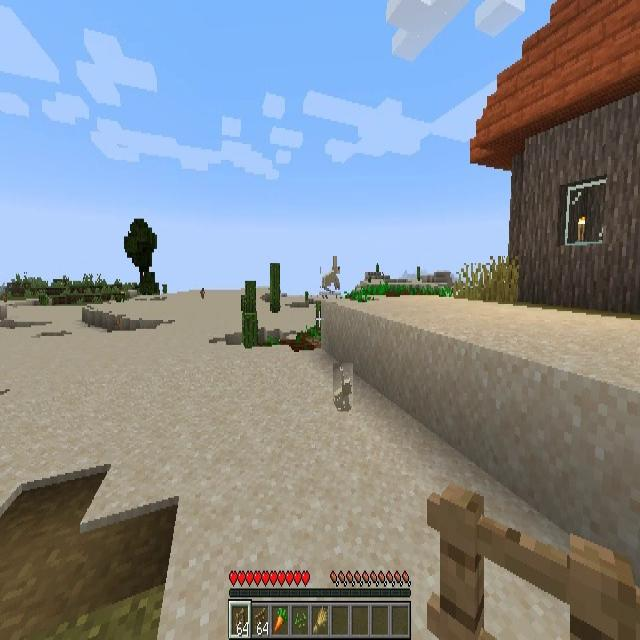rabbit: (333, 364, 353, 414), (321, 256, 340, 291)
